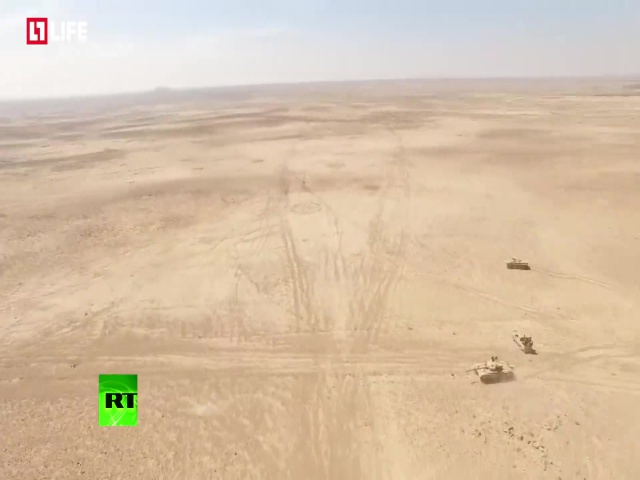vehicle: (467, 356, 517, 384), (511, 327, 535, 355), (504, 255, 532, 270)
